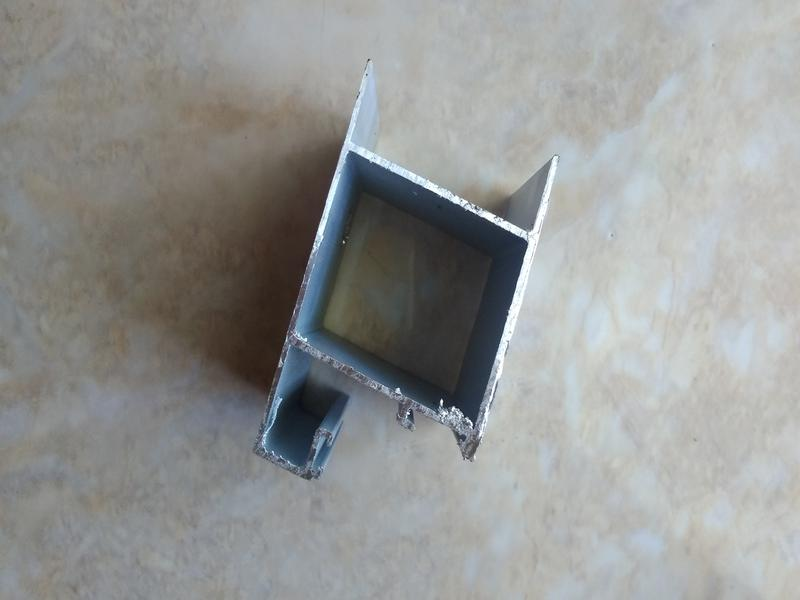Aluminium_2: (220, 25, 598, 522)
